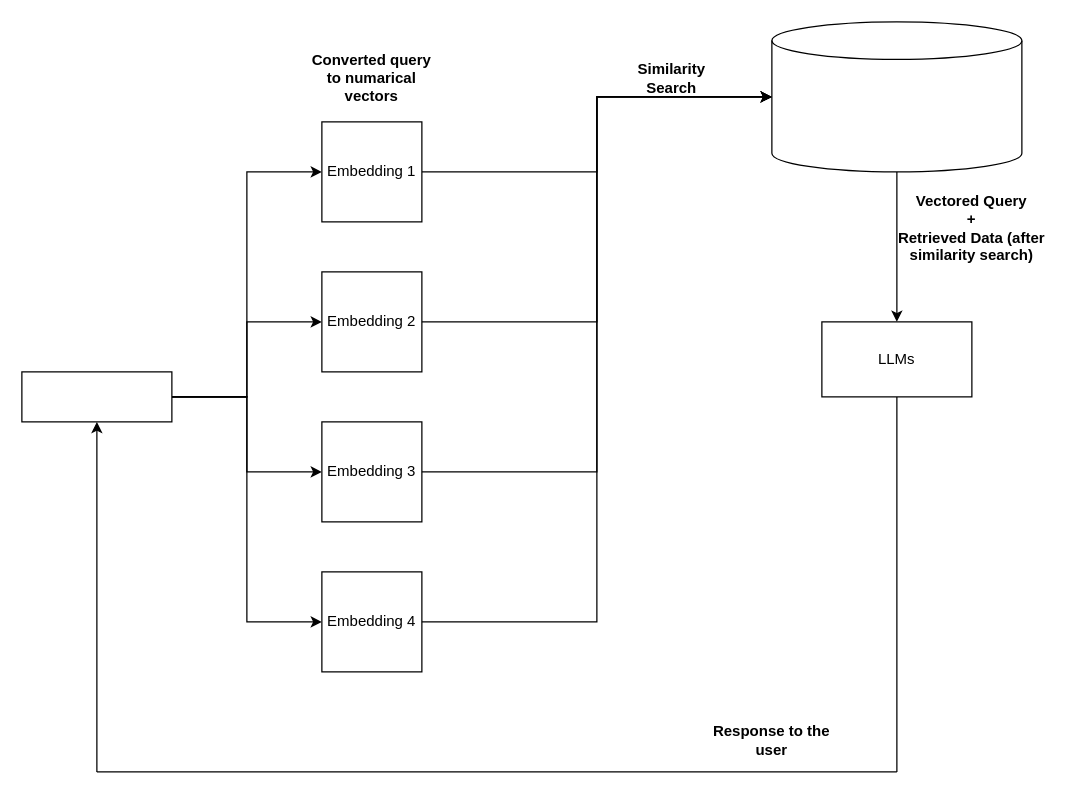
Image size: 1081x804. Some labels were removed from this diagram. Here are the shapes that lost their labels. From the top down, the box of each, then its label:
(771, 21, 1022, 172): Postgre Vector DB
(21, 371, 172, 422): Query / Question (from candidates)
